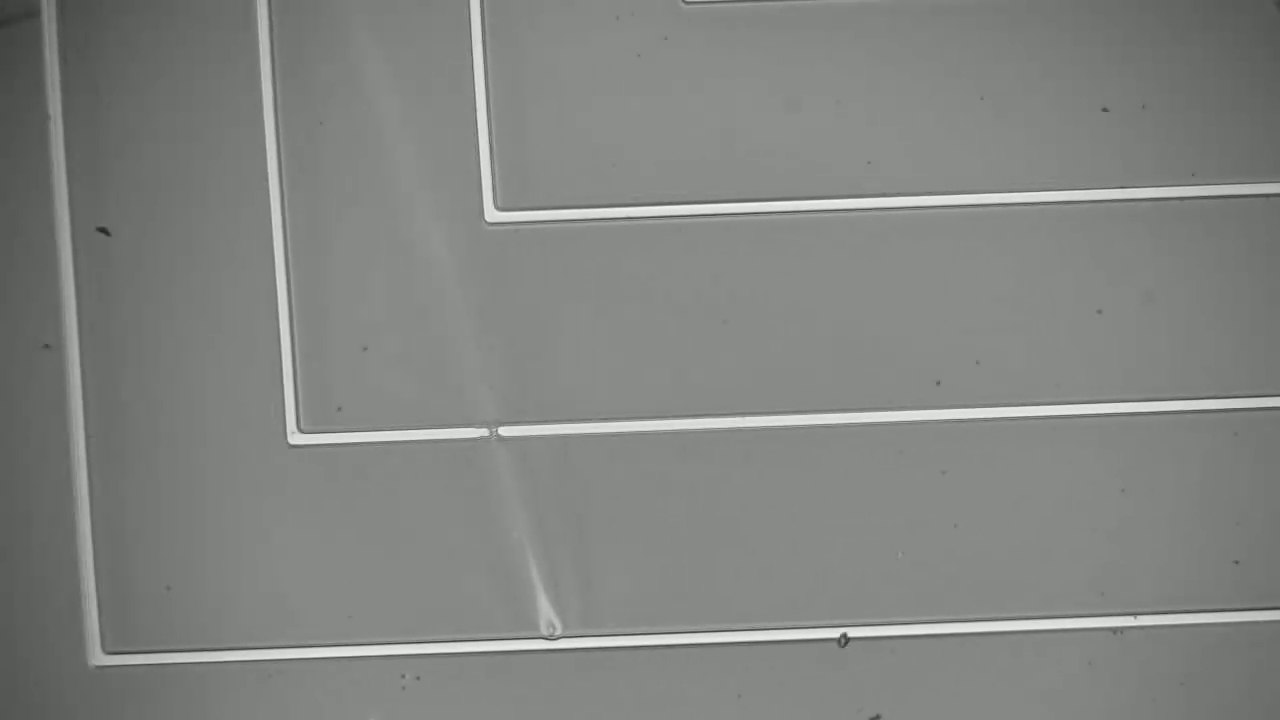open: (472, 412, 516, 450)
stains_enbedded: (828, 613, 857, 658)
